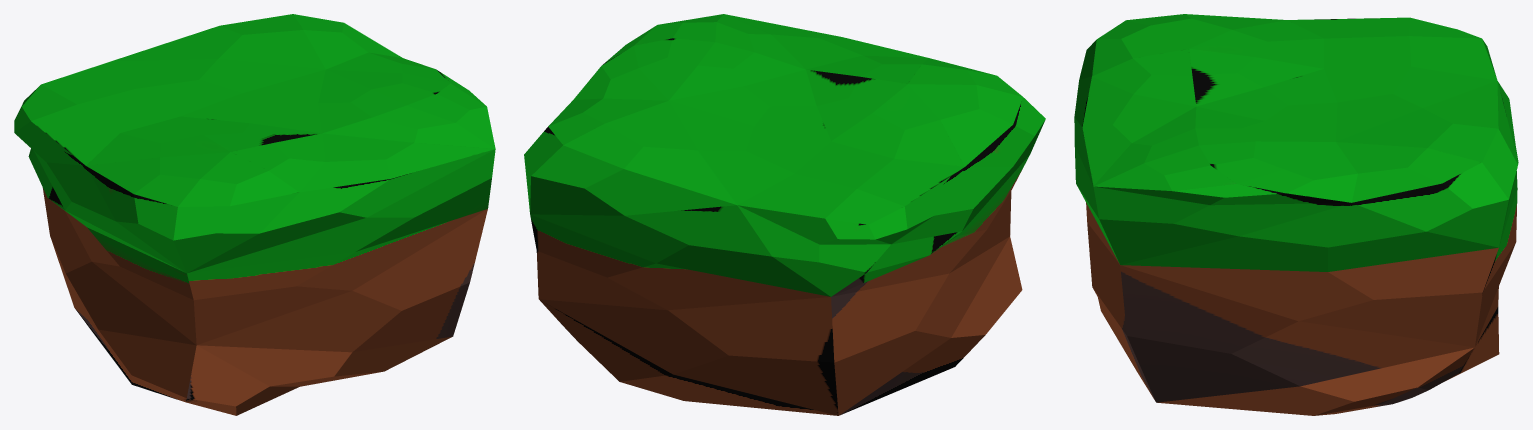
Rendered from BogBlock.fbx.
3 renders of one model, left to right at view 1: azimuth 30°, elevation 25°; view 2: azimuth 150°, elevation 25°; view 3: azimuth 270°, elevation 25°, orthographic. The views are drawn at different scales.
Visible parts, largest first — view 1: Cube; view 2: Cube; view 3: Cube.
Boxes of the visible parts, bbox=[...] form: Cube: bbox=[14, 14, 495, 415]; Cube: bbox=[524, 14, 1045, 415]; Cube: bbox=[1074, 14, 1518, 415].
Size of the model in its own units: 197 by 125 by 191.
